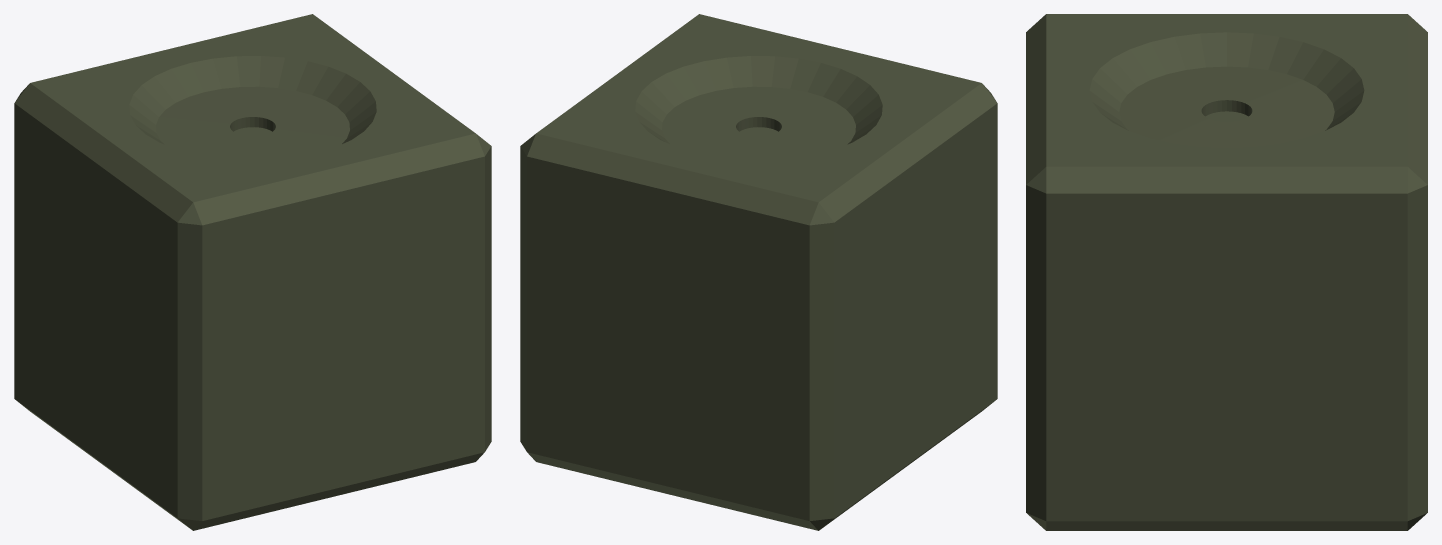
Rendered from RadiationHeart 1.glb.
The picture shows the model from 3 angles, left to right: view 1: azimuth 30°, elevation 25°; view 2: azimuth 150°, elevation 25°; view 3: azimuth 270°, elevation 25°; orthographic projection. The views are drawn at different scales.
Visible parts, largest first — view 1: RadiationHeart; view 2: RadiationHeart; view 3: RadiationHeart.
Part boxes in pixels (left/top/right/bottom): RadiationHeart: left=14, top=14, right=491, bottom=530; RadiationHeart: left=520, top=14, right=997, bottom=530; RadiationHeart: left=1026, top=14, right=1427, bottom=530.
Bounding box in the file's own units: 2 × 2 × 2.
